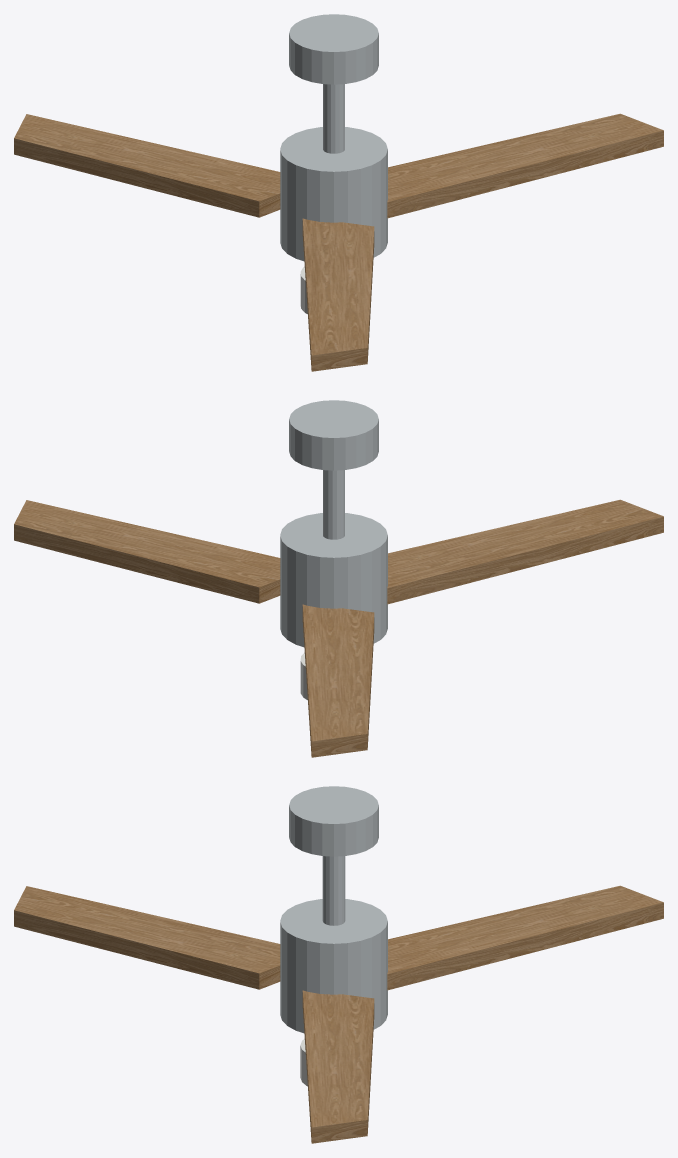
Rendered from ceiling_fan_walnut.glb.
3 views of the same model, one above another, from view 1: azimuth 30°, elevation 25°; view 2: azimuth 150°, elevation 25°; view 3: azimuth 270°, elevation 25° (orthographic).
Visible parts, largest first — view 1: fan blade, fan blade.001, motor, fan blade.002, canopy, down rod; view 2: fan blade.002, fan blade, motor, fan blade.001, canopy, down rod; view 3: fan blade.001, fan blade.002, motor, fan blade, canopy, down rod.
Part boxes in pixels (bbox=[...]): fan blade: bbox=[387, 113, 663, 218]; fan blade.001: bbox=[14, 114, 280, 217]; motor: bbox=[280, 127, 387, 261]; fan blade.002: bbox=[302, 218, 374, 371]; canopy: bbox=[289, 14, 378, 84]; down rod: bbox=[323, 84, 344, 153]; fan blade.002: bbox=[387, 499, 663, 604]; fan blade: bbox=[14, 500, 280, 603]; motor: bbox=[280, 513, 387, 647]; fan blade.001: bbox=[302, 604, 374, 757]; canopy: bbox=[289, 400, 378, 470]; down rod: bbox=[323, 470, 344, 539]; fan blade.001: bbox=[387, 885, 663, 990]; fan blade.002: bbox=[14, 886, 280, 989]; motor: bbox=[280, 899, 387, 1033]; fan blade: bbox=[302, 990, 374, 1143]; canopy: bbox=[289, 786, 378, 856]; down rod: bbox=[322, 856, 345, 925].
Size of the model in its own units: 1.27 by 0.67 by 1.45.
4 materials, 1 textured.
